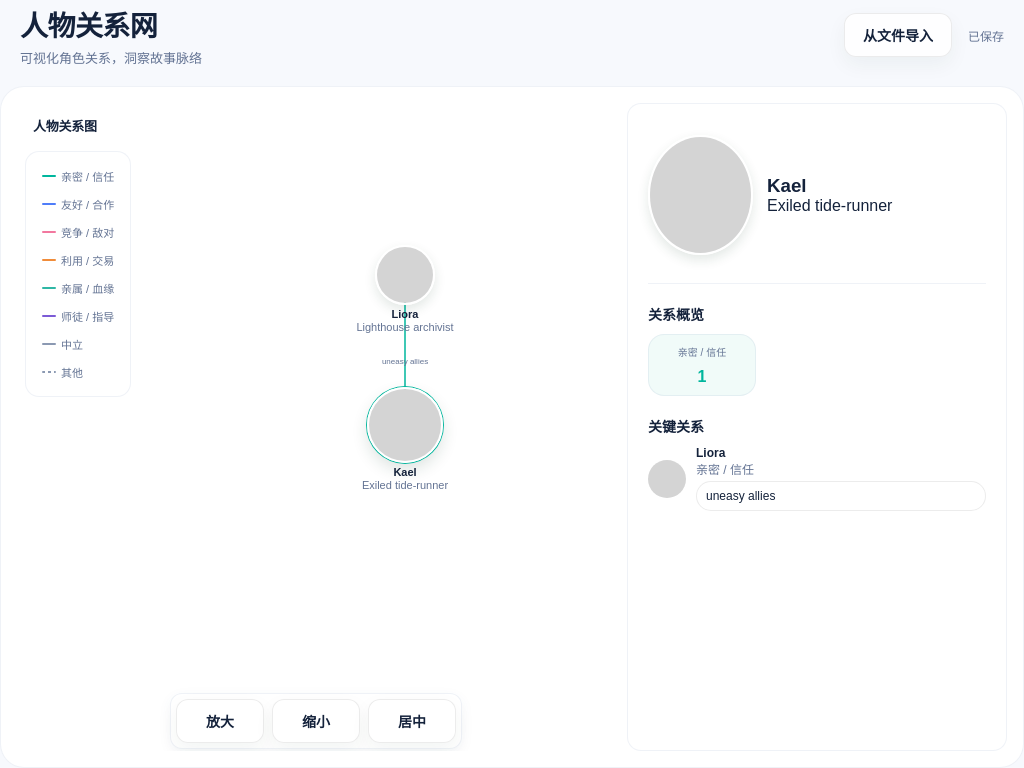
Scenario: RelationsPage › reports 保存失败 when a label save rejects
Step 1. Type "x" into the field named "Kael 与 Liora" → coordinates (841, 496), box [696,481,986,511]
Wait 1600 ms
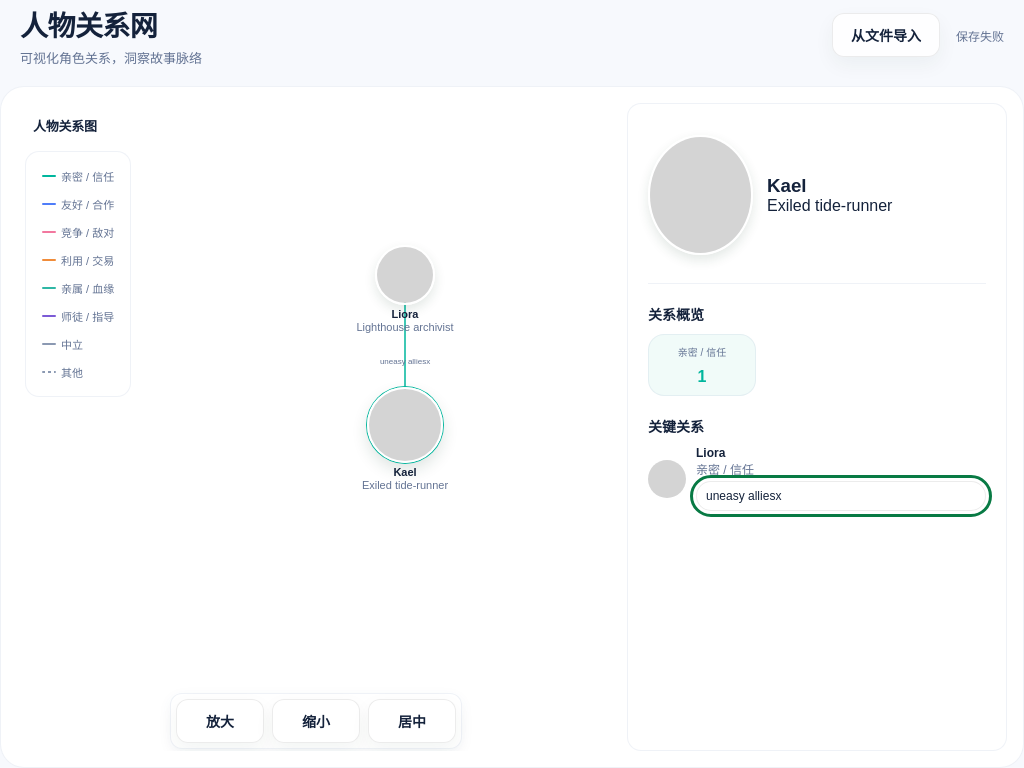
Now the message reads "保存失败", box [956,30,1004,44]
